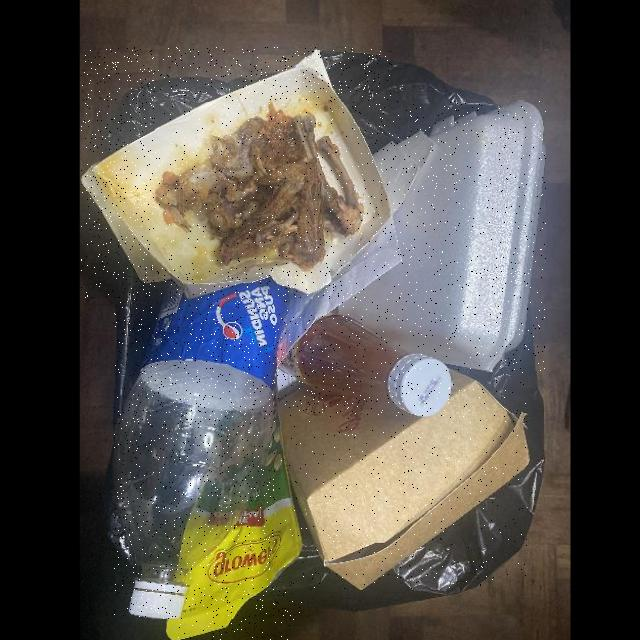biowaste: (155, 102, 364, 270)
glass: (278, 314, 452, 415)
paper: (81, 47, 392, 299), (275, 341, 529, 591)
plastic: (114, 276, 290, 618)
styrofoam: (339, 101, 546, 371)
wrapper: (167, 372, 302, 640)
